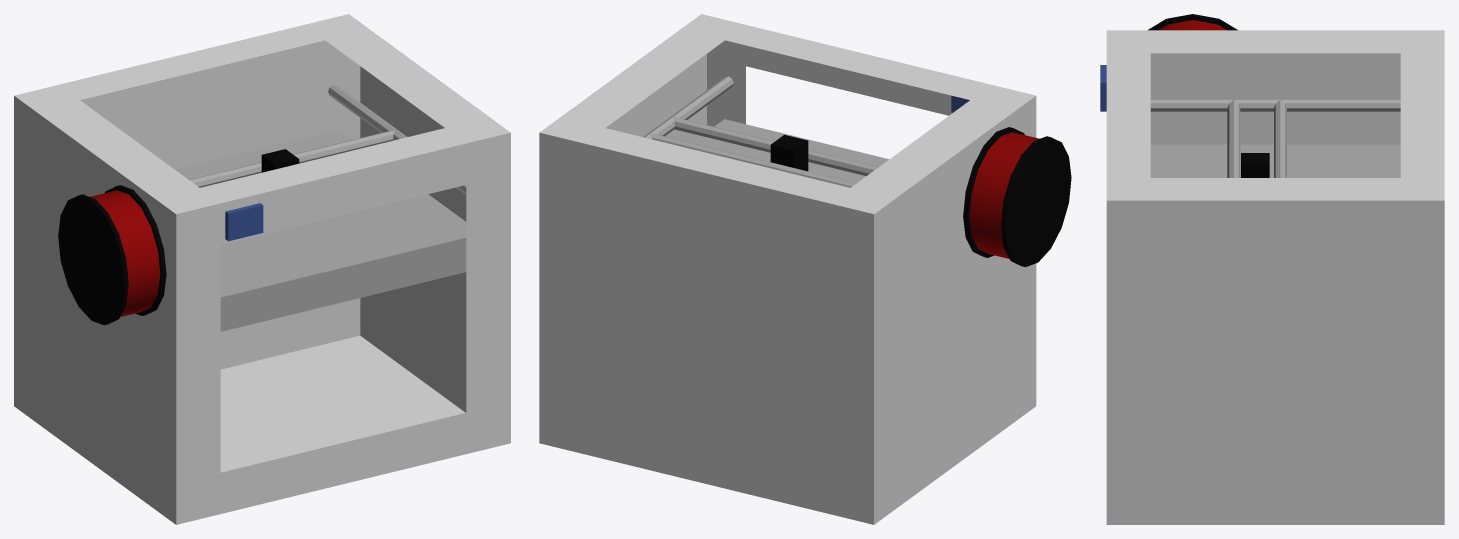
File: 3DPrinter.fbx
3 views of the same model, side by side, from view 1: azimuth 30°, elevation 25°; view 2: azimuth 150°, elevation 25°; view 3: azimuth 270°, elevation 25° (orthographic). The views are drawn at different scales.
Parts seen in each view (by area): view 1: pCube6, pPlane4, pCube7, pPlane3, pPlane2, pCylinder15, pCylinder13, pCylinder16, pCube9, pCylinder18, pCylinder14, pCube8; view 2: pCube6, pCylinder15, pCylinder13, pPlane2, pCube7, pCylinder19, pCylinder16, pCylinder18, pCube8, pCylinder14; view 3: pCube6, pPlane1, pCube7, pCylinder17, pCylinder19, pCylinder16, pCube8, pCylinder15, pCylinder13.
Boxes of the visible parts, bbox=[...] form: pCube6: bbox=[14, 14, 510, 524]; pPlane4: bbox=[80, 40, 360, 369]; pCube7: bbox=[175, 129, 466, 331]; pPlane3: bbox=[220, 335, 465, 472]; pPlane2: bbox=[360, 66, 466, 412]; pCylinder15: bbox=[58, 194, 128, 325]; pCylinder13: bbox=[90, 190, 160, 316]; pCylinder16: bbox=[189, 130, 394, 187]; pCube9: bbox=[225, 203, 263, 241]; pCylinder18: bbox=[328, 85, 466, 194]; pCylinder14: bbox=[105, 185, 166, 315]; pCube8: bbox=[261, 149, 299, 172]; pCube6: bbox=[539, 14, 1036, 524]; pCylinder15: bbox=[1001, 136, 1071, 266]; pCylinder13: bbox=[969, 132, 1039, 258]; pPlane2: bbox=[606, 54, 706, 142]; pCube7: bbox=[692, 119, 888, 183]; pCylinder19: bbox=[673, 117, 878, 175]; pCylinder16: bbox=[650, 133, 856, 187]; pCylinder18: bbox=[643, 76, 733, 139]; pCube8: bbox=[770, 134, 808, 171]; pCylinder14: bbox=[963, 127, 1024, 257]; pCube6: bbox=[1106, 30, 1444, 524]; pPlane1: bbox=[1150, 53, 1400, 144]; pCube7: bbox=[1150, 144, 1400, 177]; pCylinder17: bbox=[1150, 99, 1400, 111]; pCylinder19: bbox=[1227, 100, 1240, 177]; pCylinder16: bbox=[1274, 100, 1286, 177]; pCube8: bbox=[1241, 153, 1269, 177]; pCylinder15: bbox=[1148, 14, 1237, 30]; pCylinder13: bbox=[1159, 20, 1226, 30].
Size of the model in its own units: 0.7005 by 0.55 by 0.5298.
